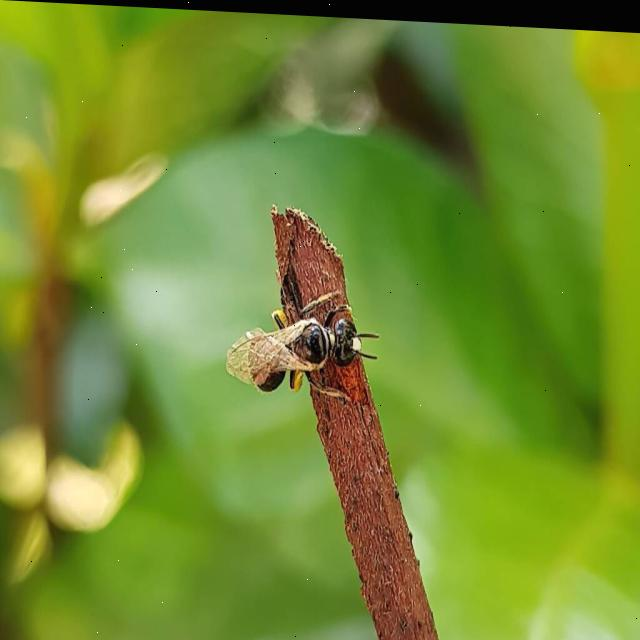Braunsapis: (231, 262, 394, 403)
